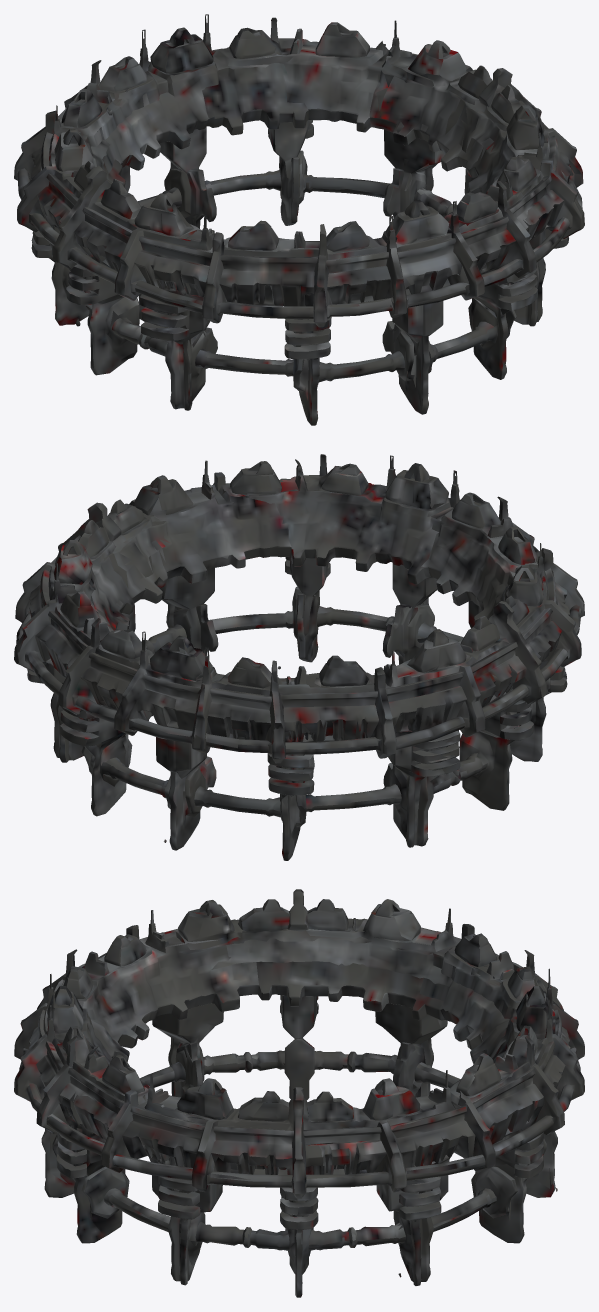
Rendered from stargate2.glb.
3 renders of one model, top to bottom at view 1: azimuth 30°, elevation 25°; view 2: azimuth 150°, elevation 25°; view 3: azimuth 270°, elevation 25°, orthographic.
Visible parts, largest first — view 1: convert; view 2: convert; view 3: convert.
Boxes of the visible parts, box(x1,y1,x2,y2) form: convert: box(14, 14, 584, 425); convert: box(14, 454, 584, 860); convert: box(14, 889, 584, 1297).
Size of the model in its own units: 1.16 by 0.4818 by 1.16.
1 material, 1 textured.
